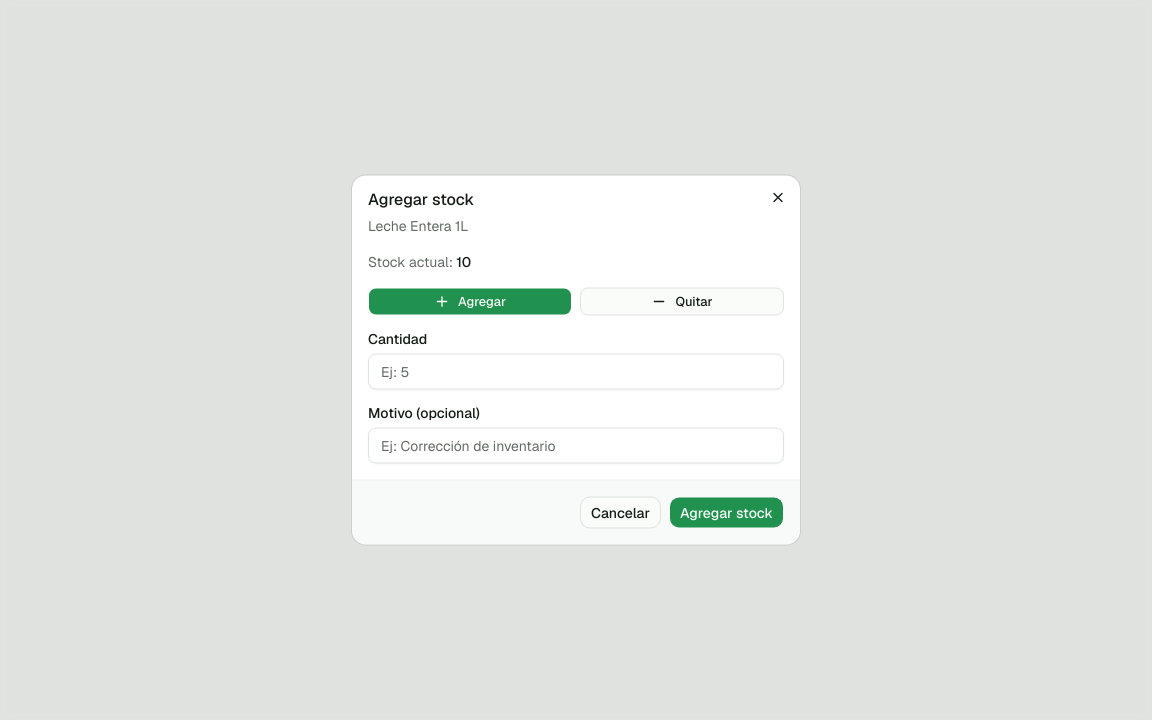
Test: ProductStockAdjustDialog › preserves previous stock display on backend not-found error
Expected: the text "10" is shown, [456, 252, 471, 270]
In the number field labelled "Cantidad": (576, 372) [368, 354, 784, 390], type "5"
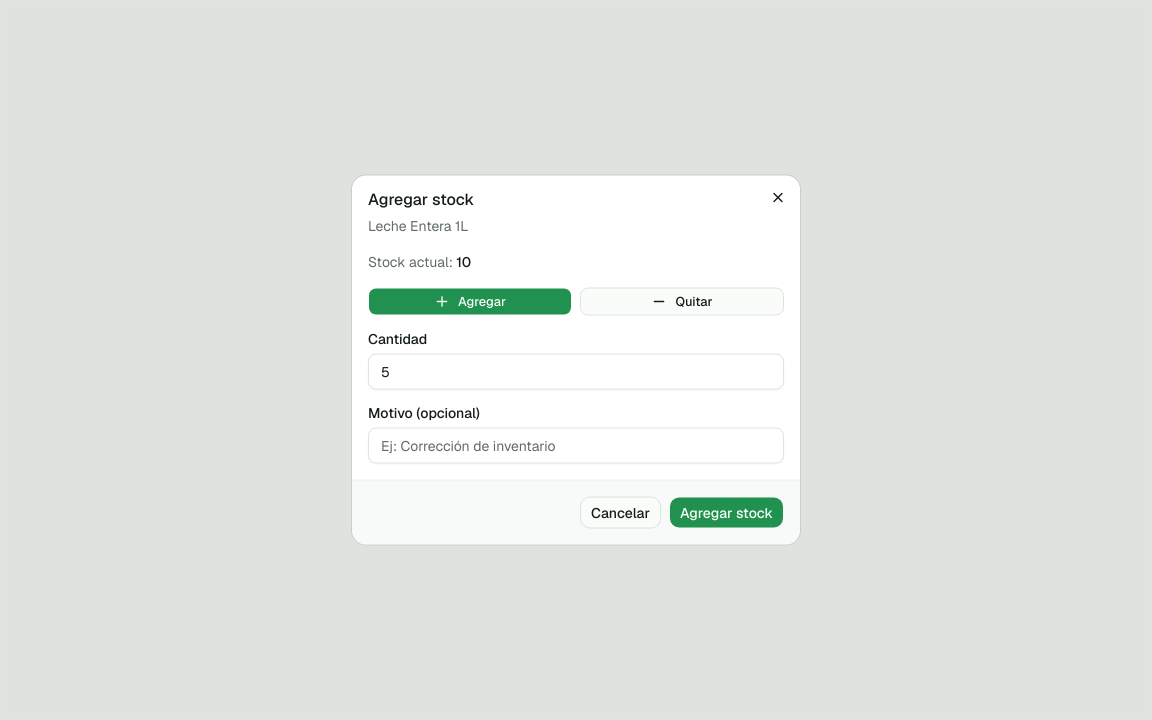
Click the button with aria-label "confirmar agregar stock": (726, 512) [669, 496, 784, 528]
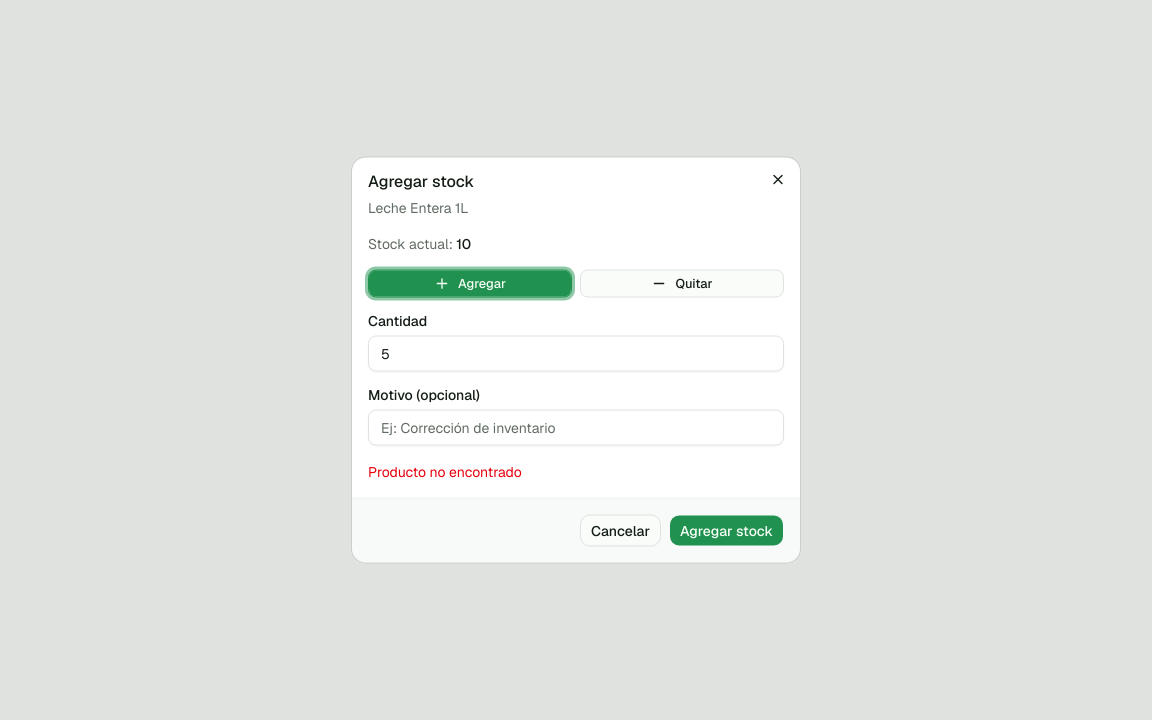
Expected: the text "10" is shown, [456, 234, 471, 252]
Expected: the text "Producto no encontrado" is shown, [368, 462, 522, 480]
